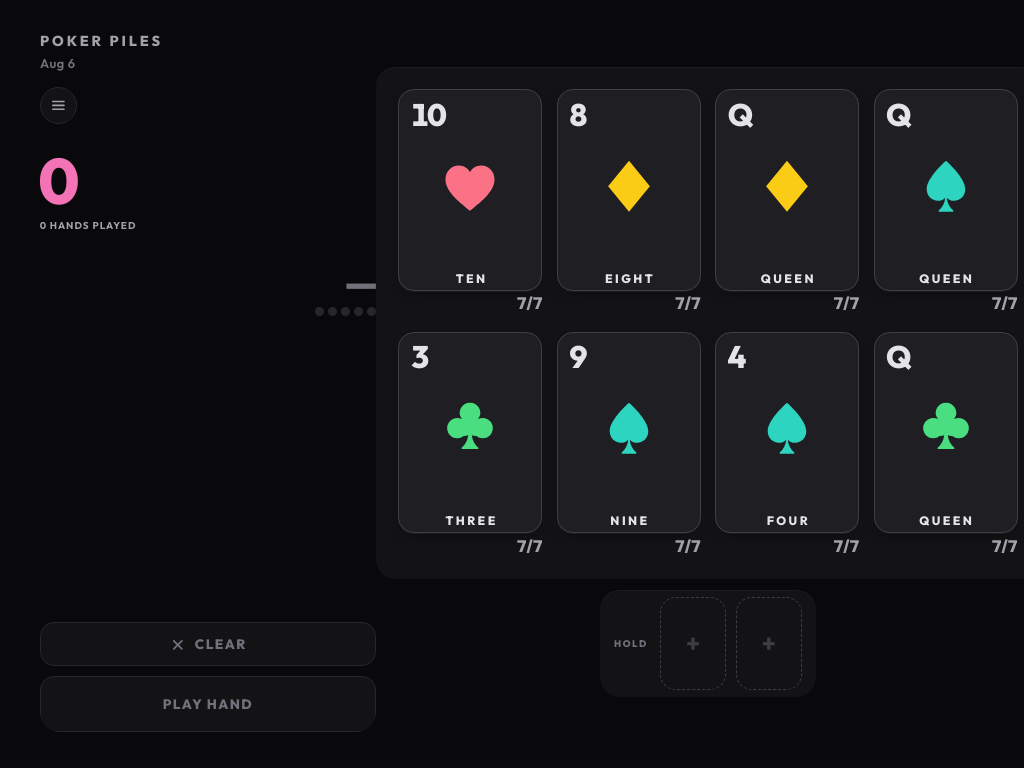
App › selecting a card then tapping an empty slot banks it directly, clearing the selection
What coordinates should you click on to do the following:
click the button "10 Ten"
I would click on:
 (470, 202)
Its box is [398,89,542,314].
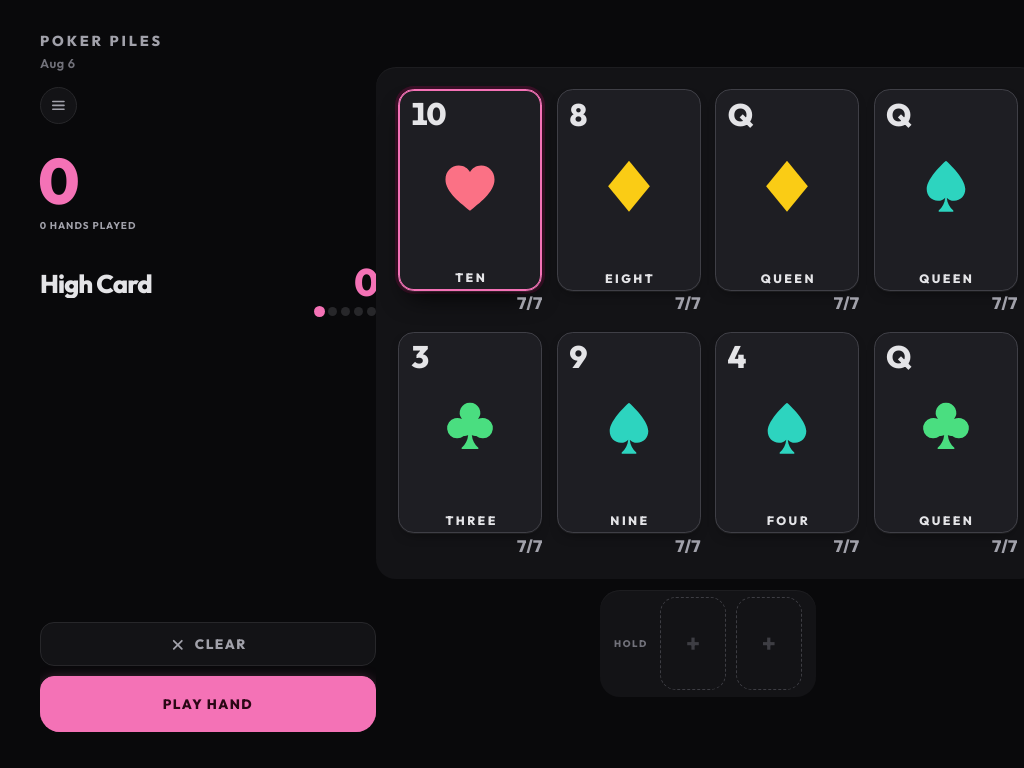
Now the button "10 Ten" is pressed, box [398,89,542,314]
What coordinates should you click on to do the following:
click the button named "Hold slot 1, empty"
I would click on:
 (693, 643)
Its box is [660,597,726,690].
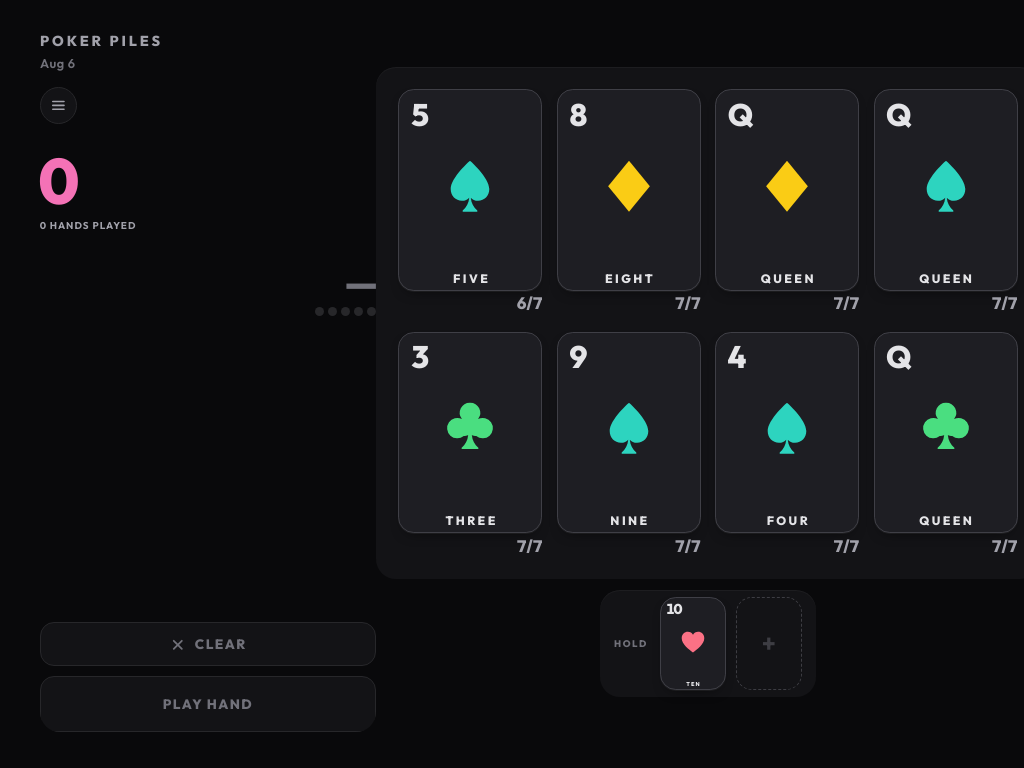
Now the text "—" is shown, box [344,258,376,306]
